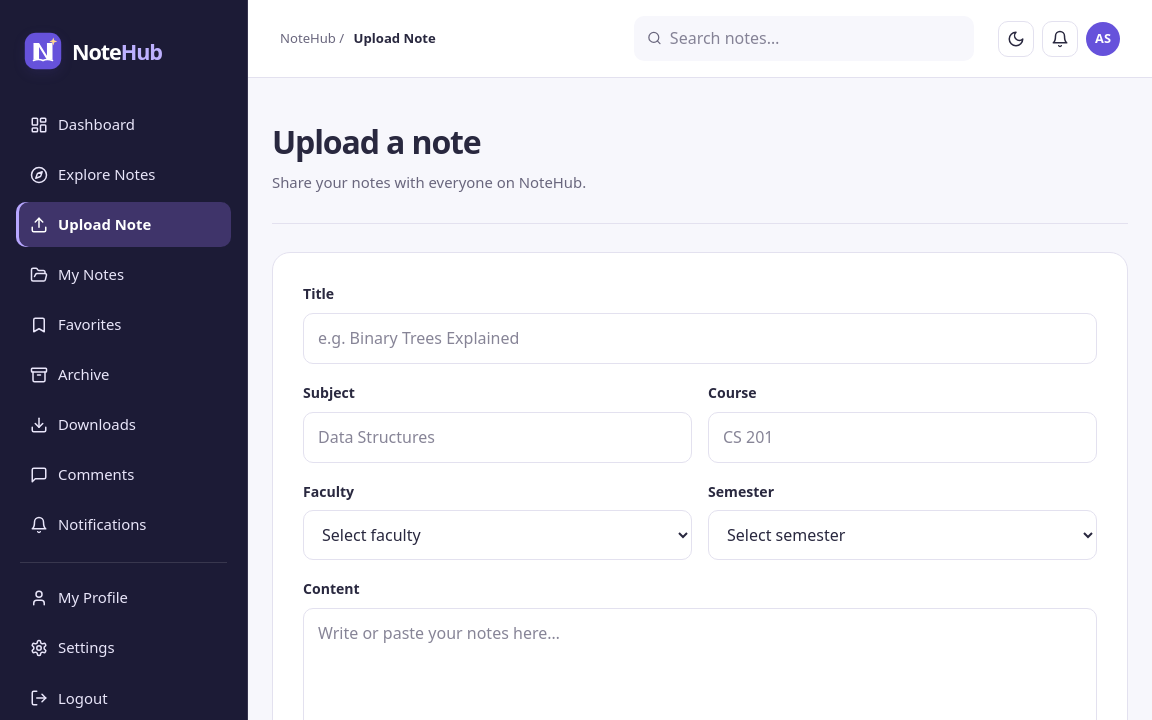
asynchronous note workflows › waits for the server before navigating and updates counts after a successful save
This screenshot has width=1152, height=720.
Later steps or results of the test are not shown.
In the field labelled "Title": (700, 338) [303,313,1097,364], type "Quantum Zebra Notes"
(page scrolled)
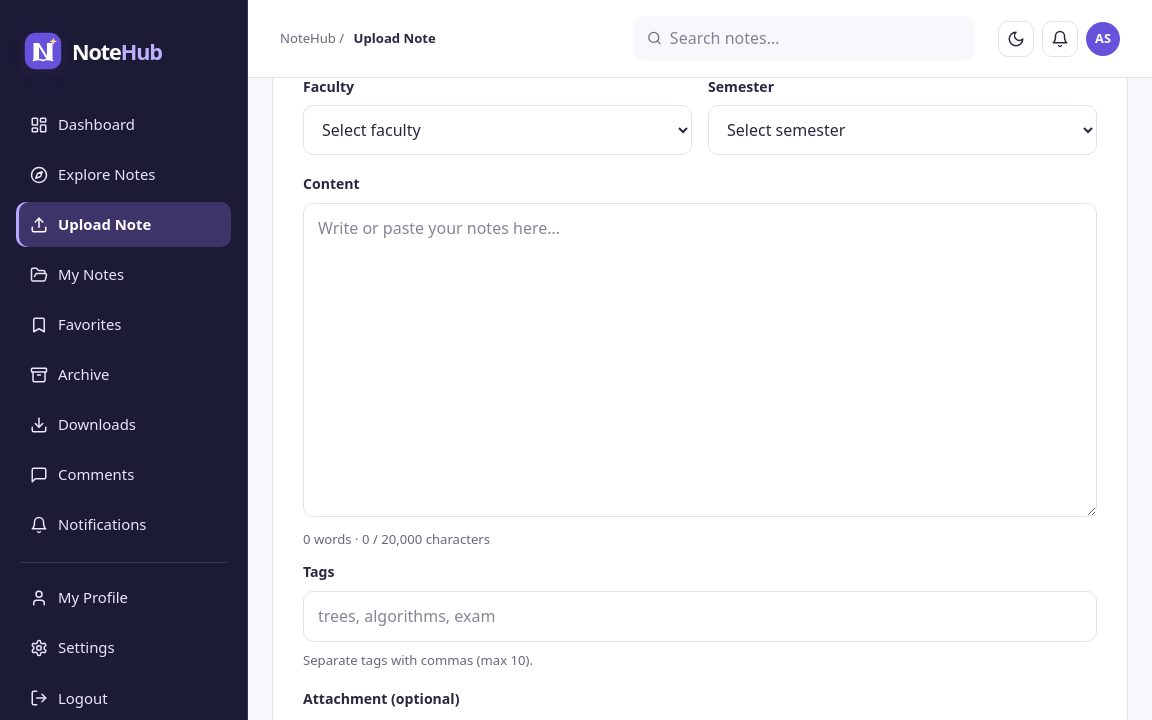
In the text box labelled "Content": (700, 360) [303,203,1097,517], type "one two three"
(page scrolled)
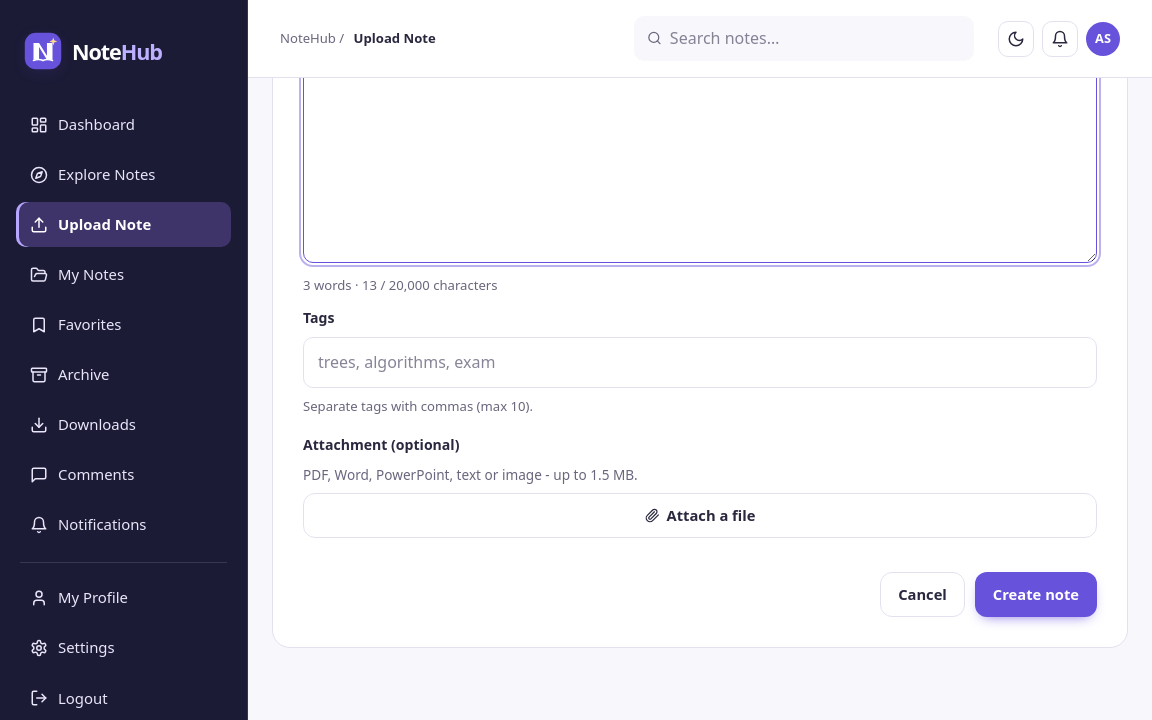
Click the button "Create note": click(1036, 594) [975,572,1097,617]
(page scrolled)
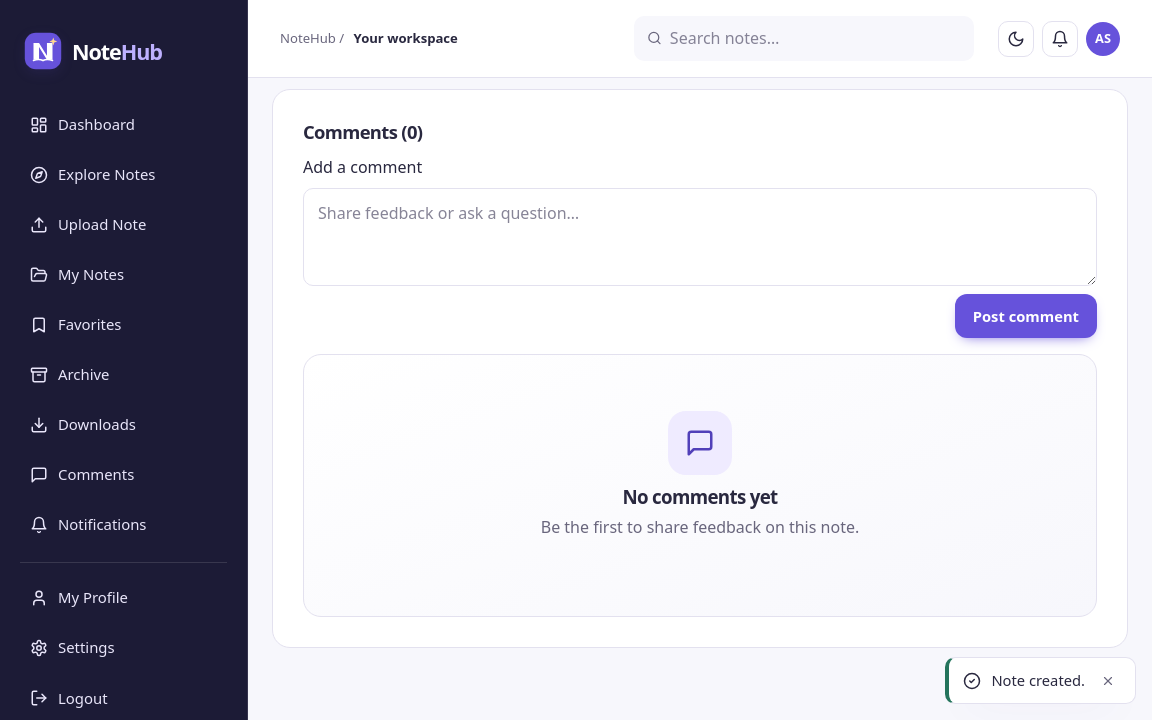
Click the link "Dashboard": click(82, 124) [30,114,135,134]
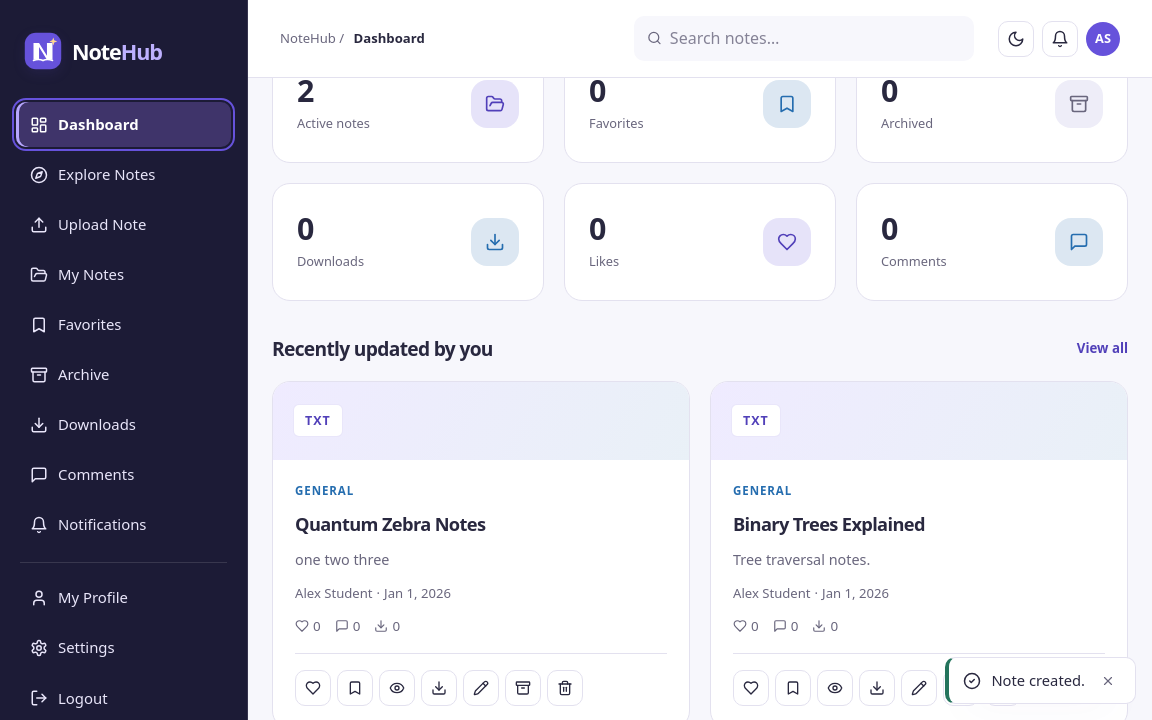
Check: the text with test id "stat-active-notes" reads "2", box [297,70,314,111]
